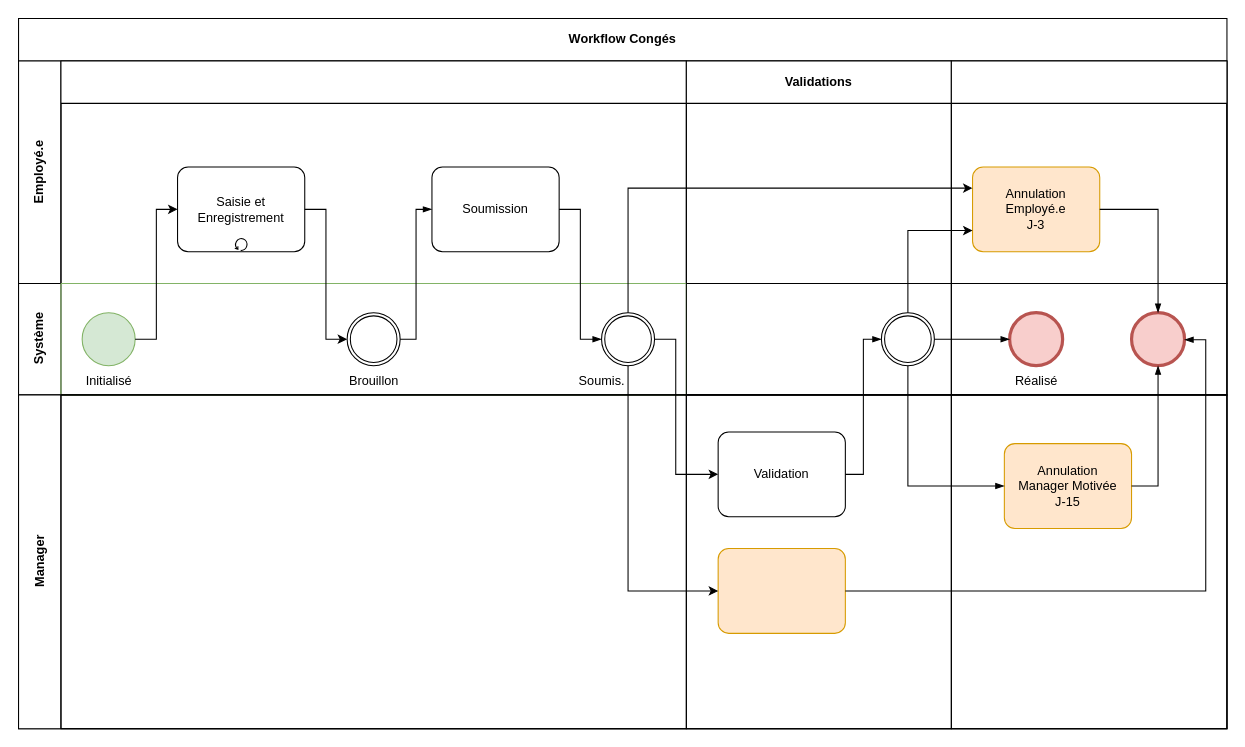
Image size: 1245x747. Some labels were removed from this diagram. Each missing label, with the box of its shape:
Annulations / Réalisation: (950, 60, 1227, 284)
Annulé: (1130, 312, 1185, 366)
Décalaration: (60, 60, 686, 284)
Refus Motivé J-15: (717, 547, 845, 633)
Validé: (880, 312, 934, 366)
